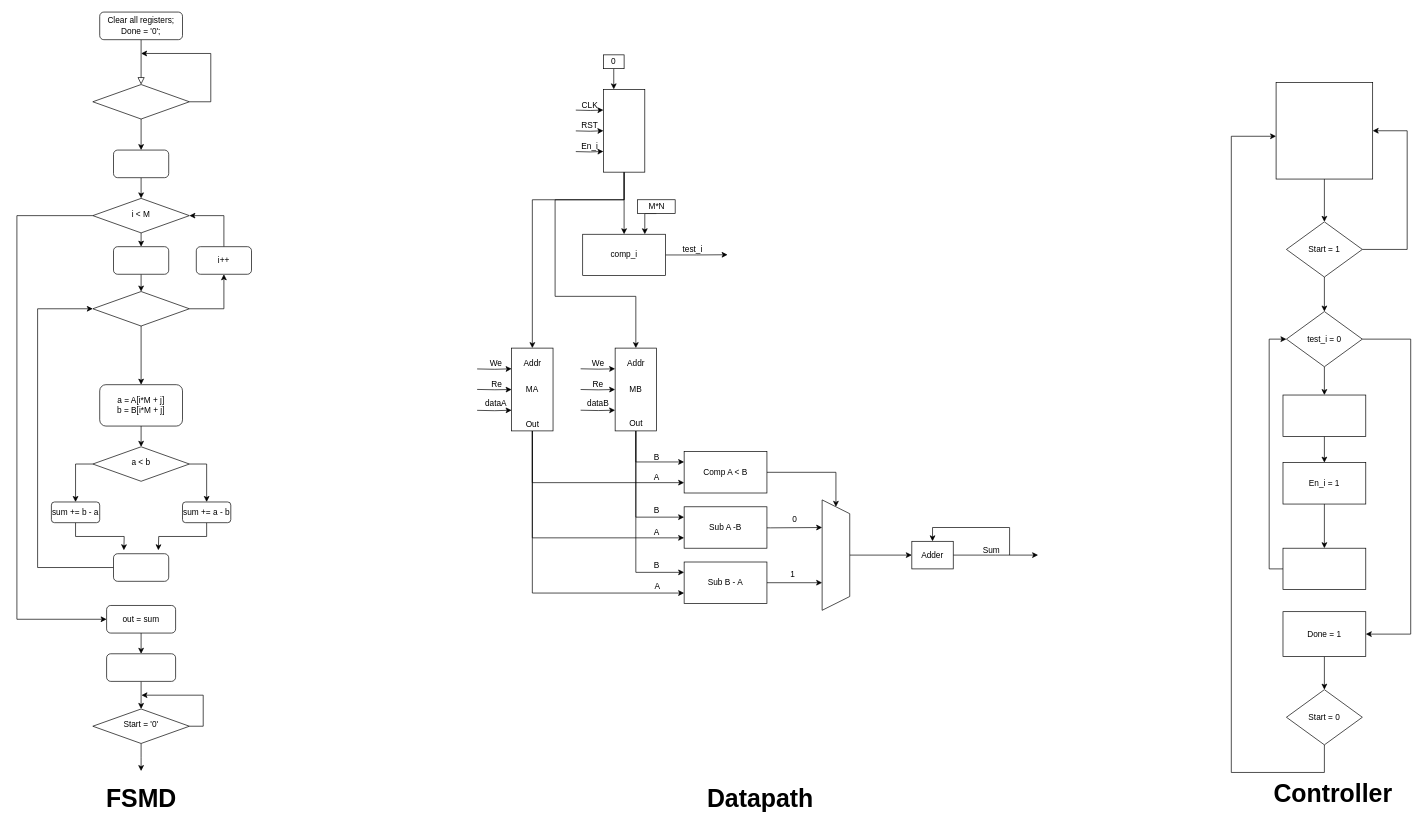
This 1428x831 diagram has some shape labels left out. Here are the shapes that lost their labels. From the top down, the box of each, then its label:
(92, 84, 189, 119): Start = '1'
(603, 89, 645, 172): cnt_i
(1275, 82, 1373, 179): Clear all register Done = 0 Ld_i = 1
(113, 149, 169, 178): i = 0
(113, 246, 169, 274): j = 0
(92, 291, 189, 326): j < N
(1282, 394, 1366, 436): ReA = 1 ReB =1
(113, 553, 169, 581): j++
(821, 499, 850, 610): Mux
(1282, 548, 1366, 590): Re_sum = 1
(106, 653, 176, 681): Done = '1'
